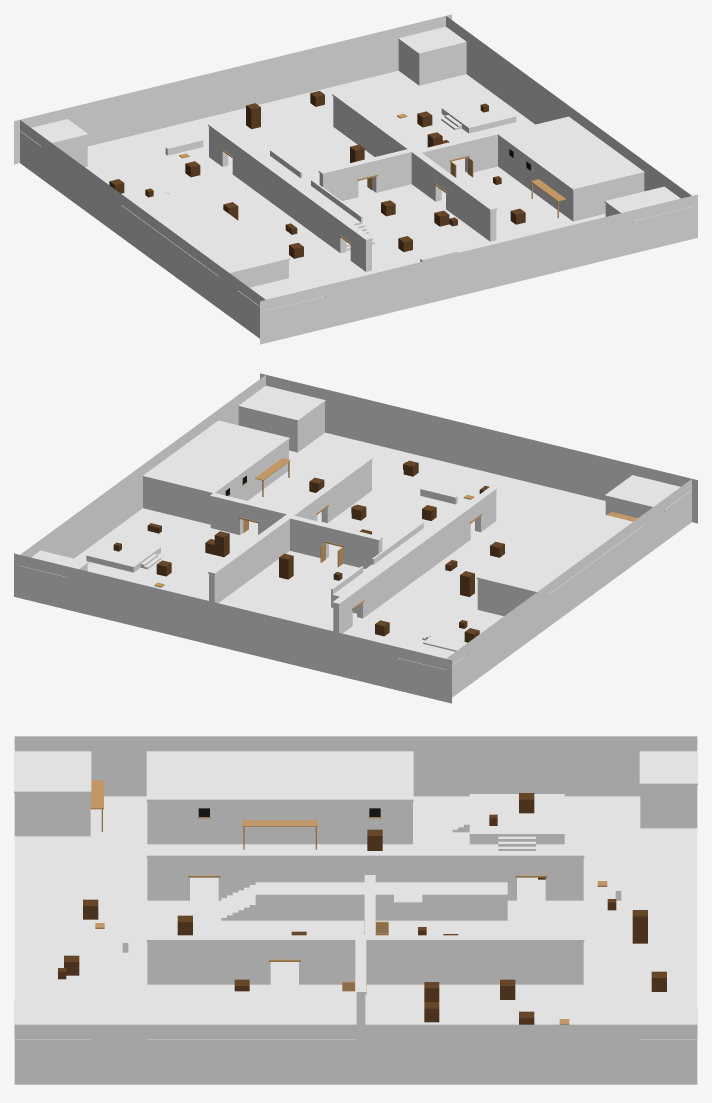
The model's file is dunes.glb.
3 views of the same model, one above another, from view 1: azimuth 30°, elevation 25°; view 2: azimuth 150°, elevation 25°; view 3: azimuth 270°, elevation 25° (orthographic). The views are drawn at different scales.
Visible parts, largest first — view 1: dunes; view 2: dunes; view 3: dunes.
Boxes of the visible parts, box(x1,y1,x2,y2) form: dunes: box(14, 14, 697, 344); dunes: box(14, 373, 697, 703); dunes: box(14, 736, 697, 1084).
Bounding box in the file's own units: 74 × 7 × 72.16.
